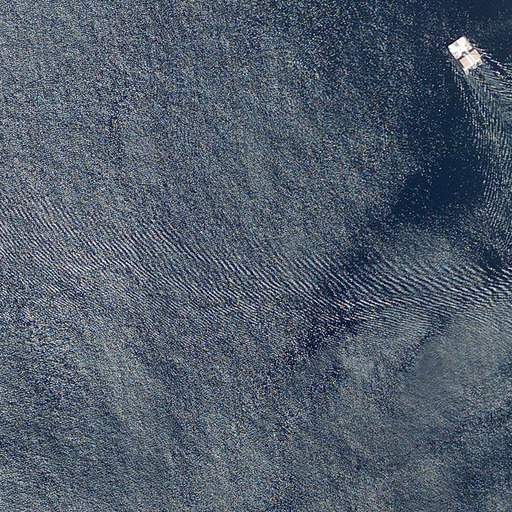ship: (446, 35, 484, 77)
